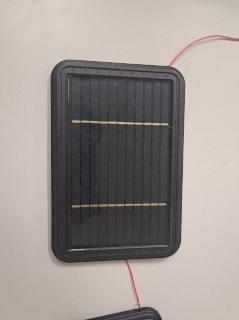crack: (127, 142, 134, 147)
solarboard: (68, 74, 173, 250)
